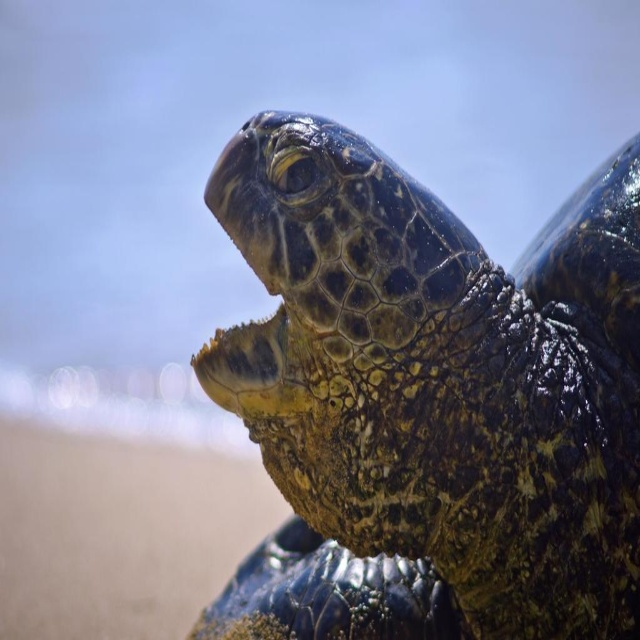Sea turtle: (180, 112, 640, 639)
